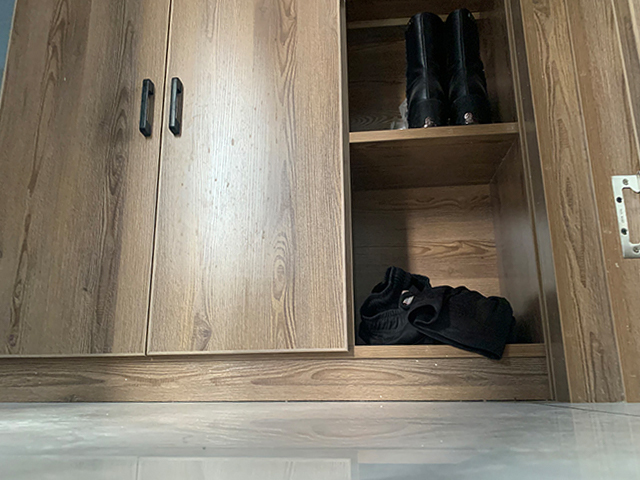cabinet: (1, 1, 559, 404)
